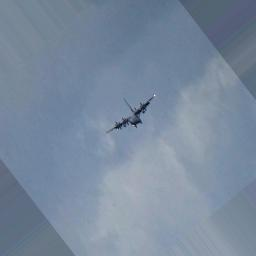Airplane: (104, 93, 157, 136)
